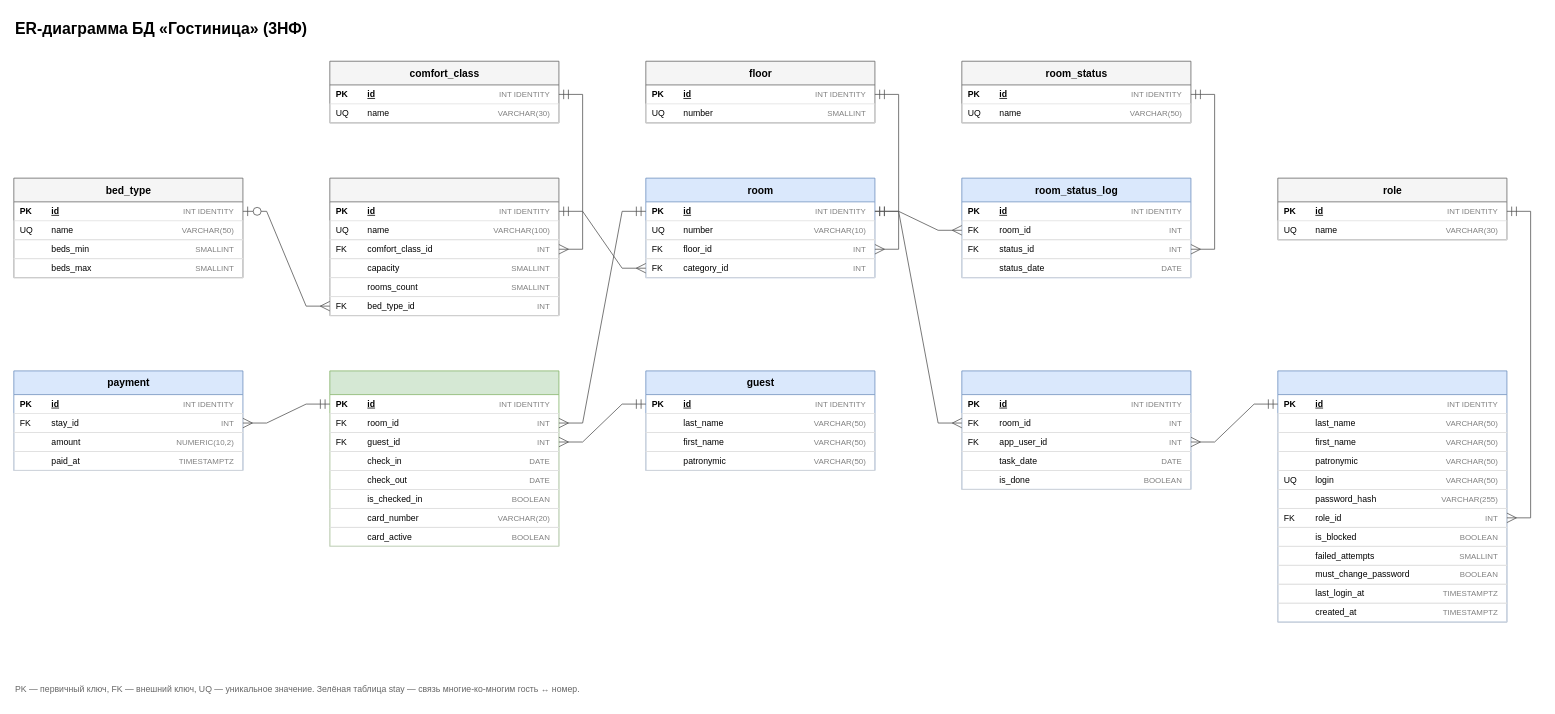
This 1555x714 diagram has some shape labels left out. The shapes that lost their labels are listed below. From the top down, each one's box as (x1, y1, x2, y2) in pixels, then its label:
(329, 177, 559, 316): room_category
(961, 370, 1191, 489): cleaning_task
(329, 370, 559, 546): stay
(1277, 370, 1507, 622): app_user
